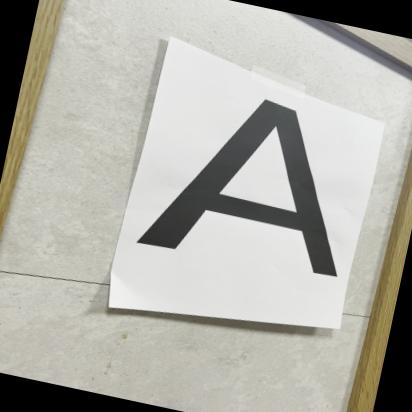seat: (113, 60, 383, 309)
